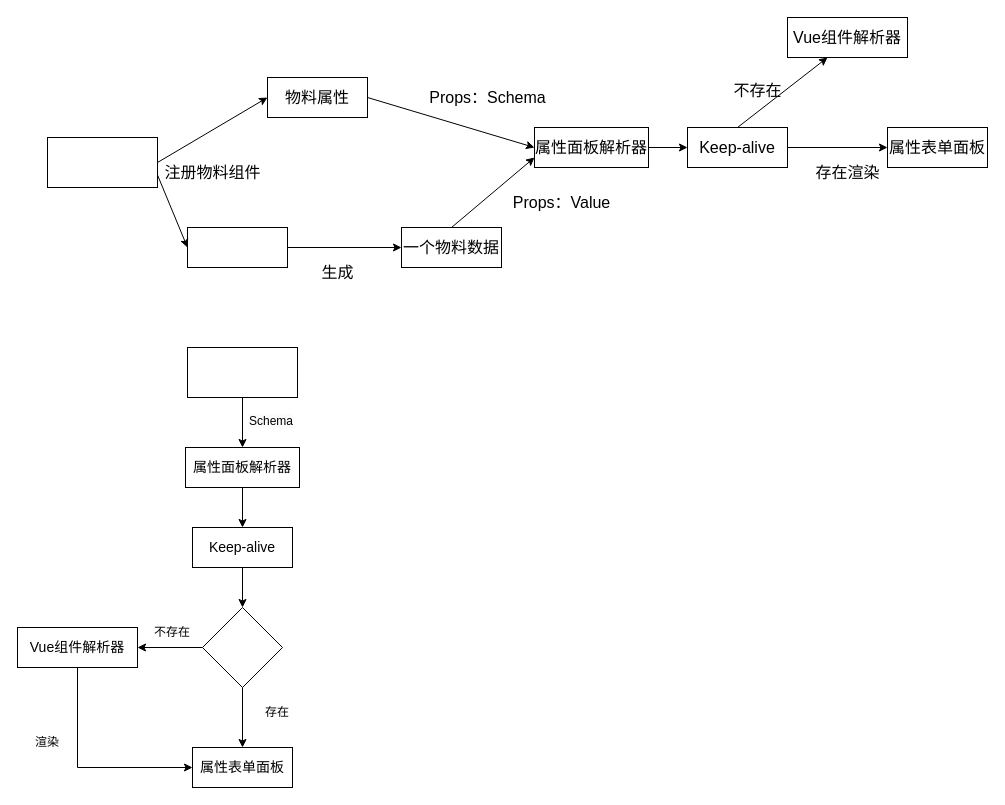
Some shapes in this 1005 by 805 pixel diagram are drawn without their labels. The shapes that lost their labels are listed below. From the top down, each one's centre as x and y in pixels, then its label:
the point at 102,162: 物料描述的Json
the point at 237,247: 物料初始数据
the point at 242,372: 物料组件
the point at 242,647: 是否存在
